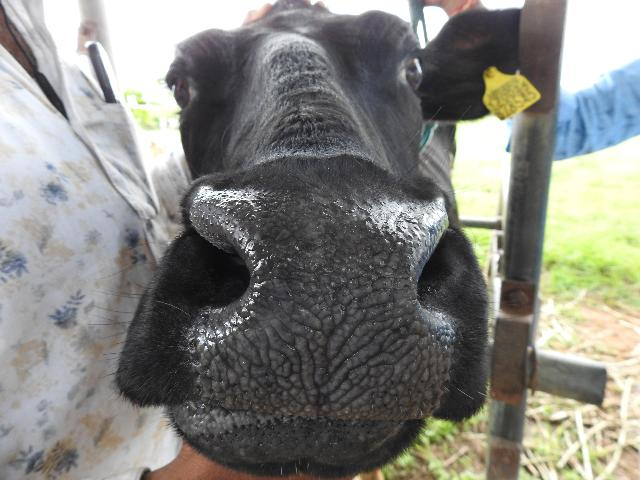Muzzle: (242, 202, 420, 406)
